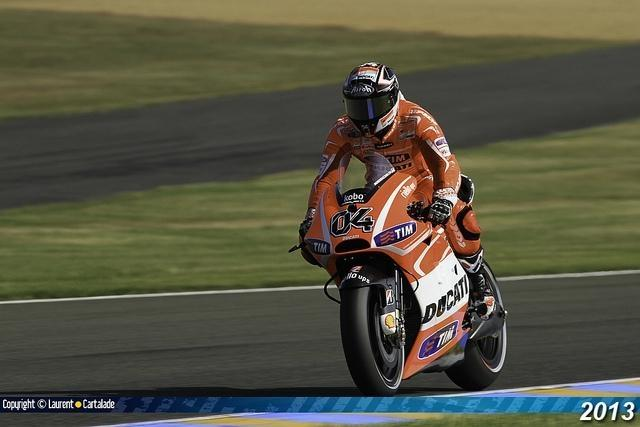motorcycle: (298, 149, 504, 401)
